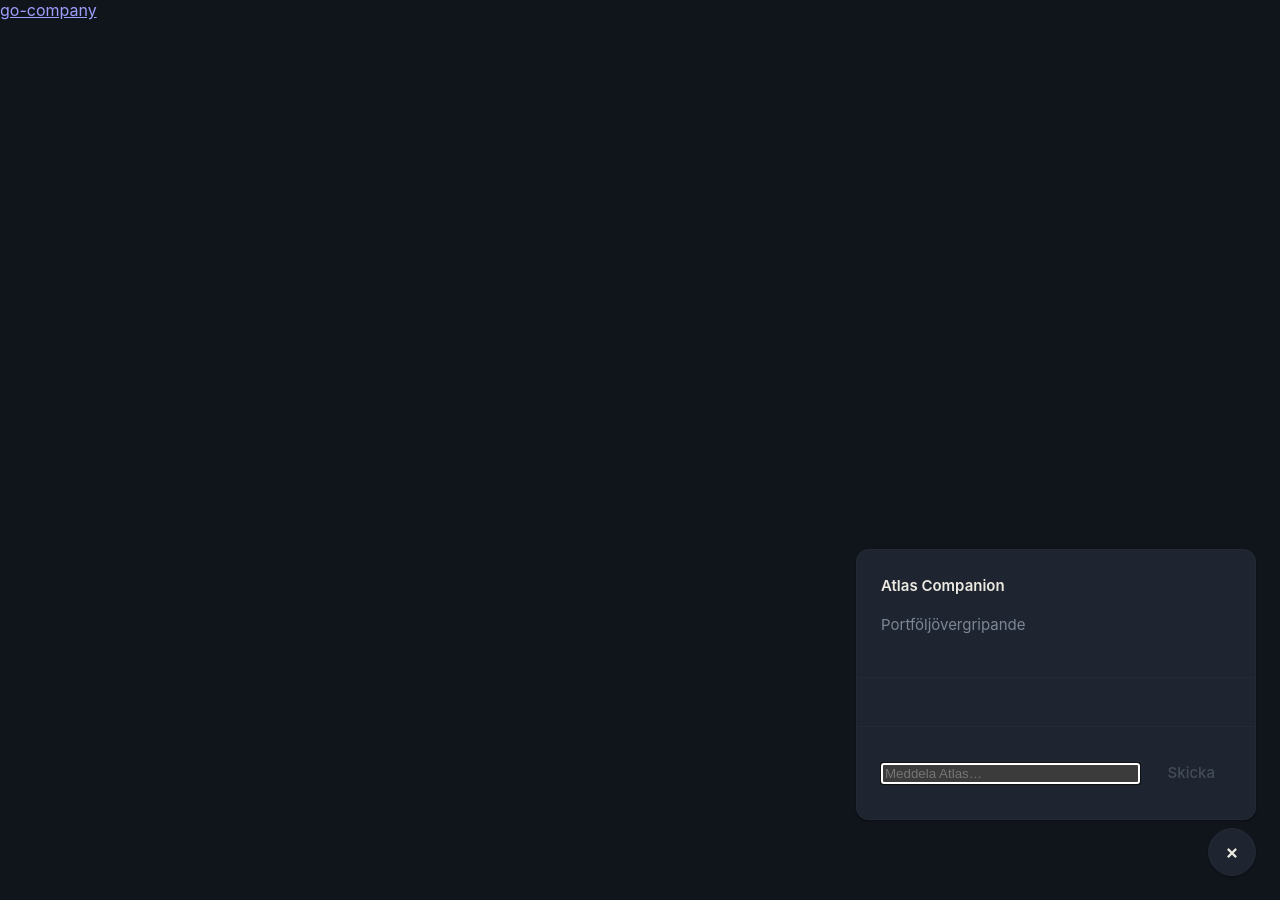
it: CompanionPanel -- Sprint 3 coverage completion › does not announce the very first context, even after navigating before any message is sent
Expected: the text "Portföljövergripande" is shown, 881,615 -> 1026,634
Click the link "go-company" at (48, 10), box 0,0 -> 97,20
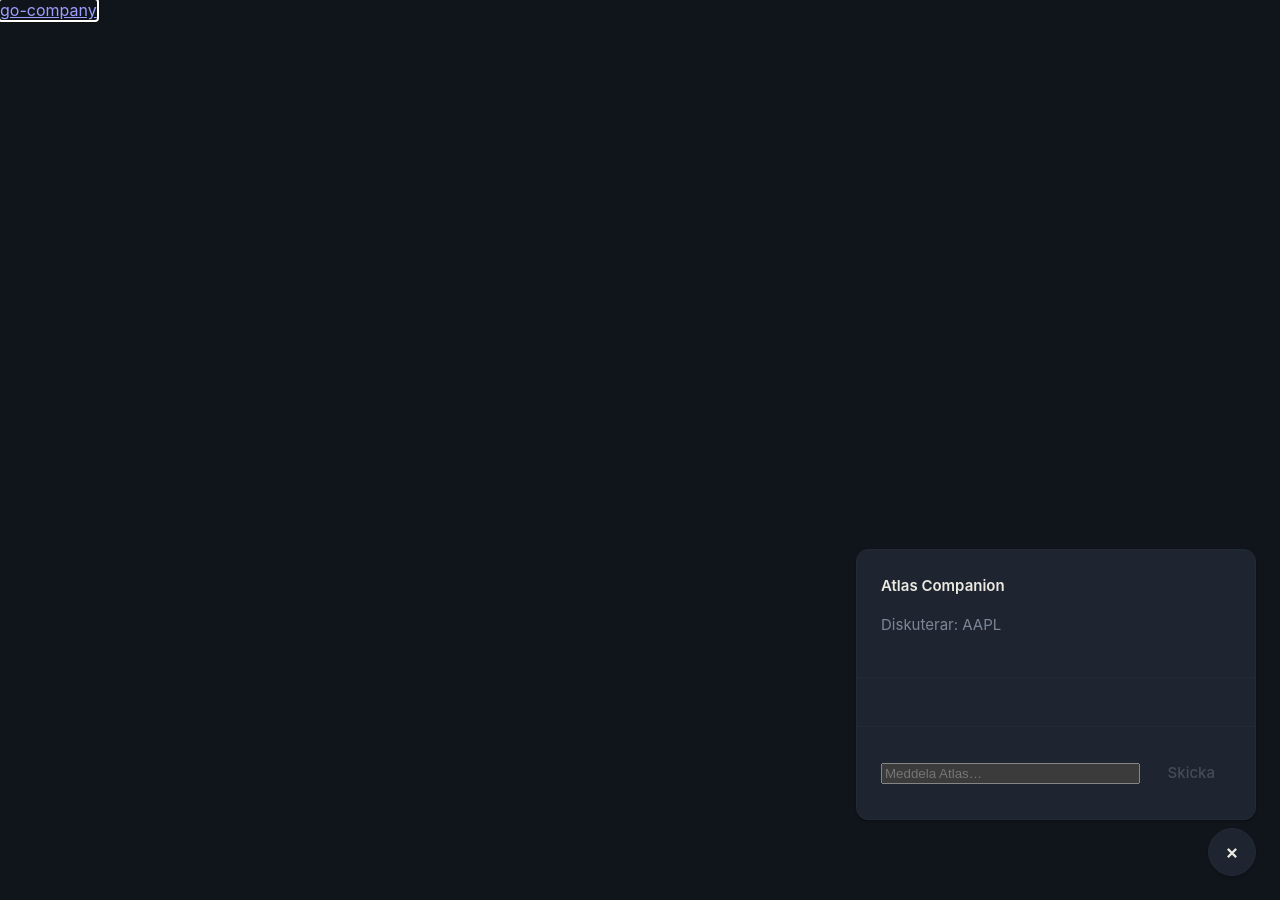
Expected: the text "Diskuterar: AAPL" is shown, 881,615 -> 1001,634
